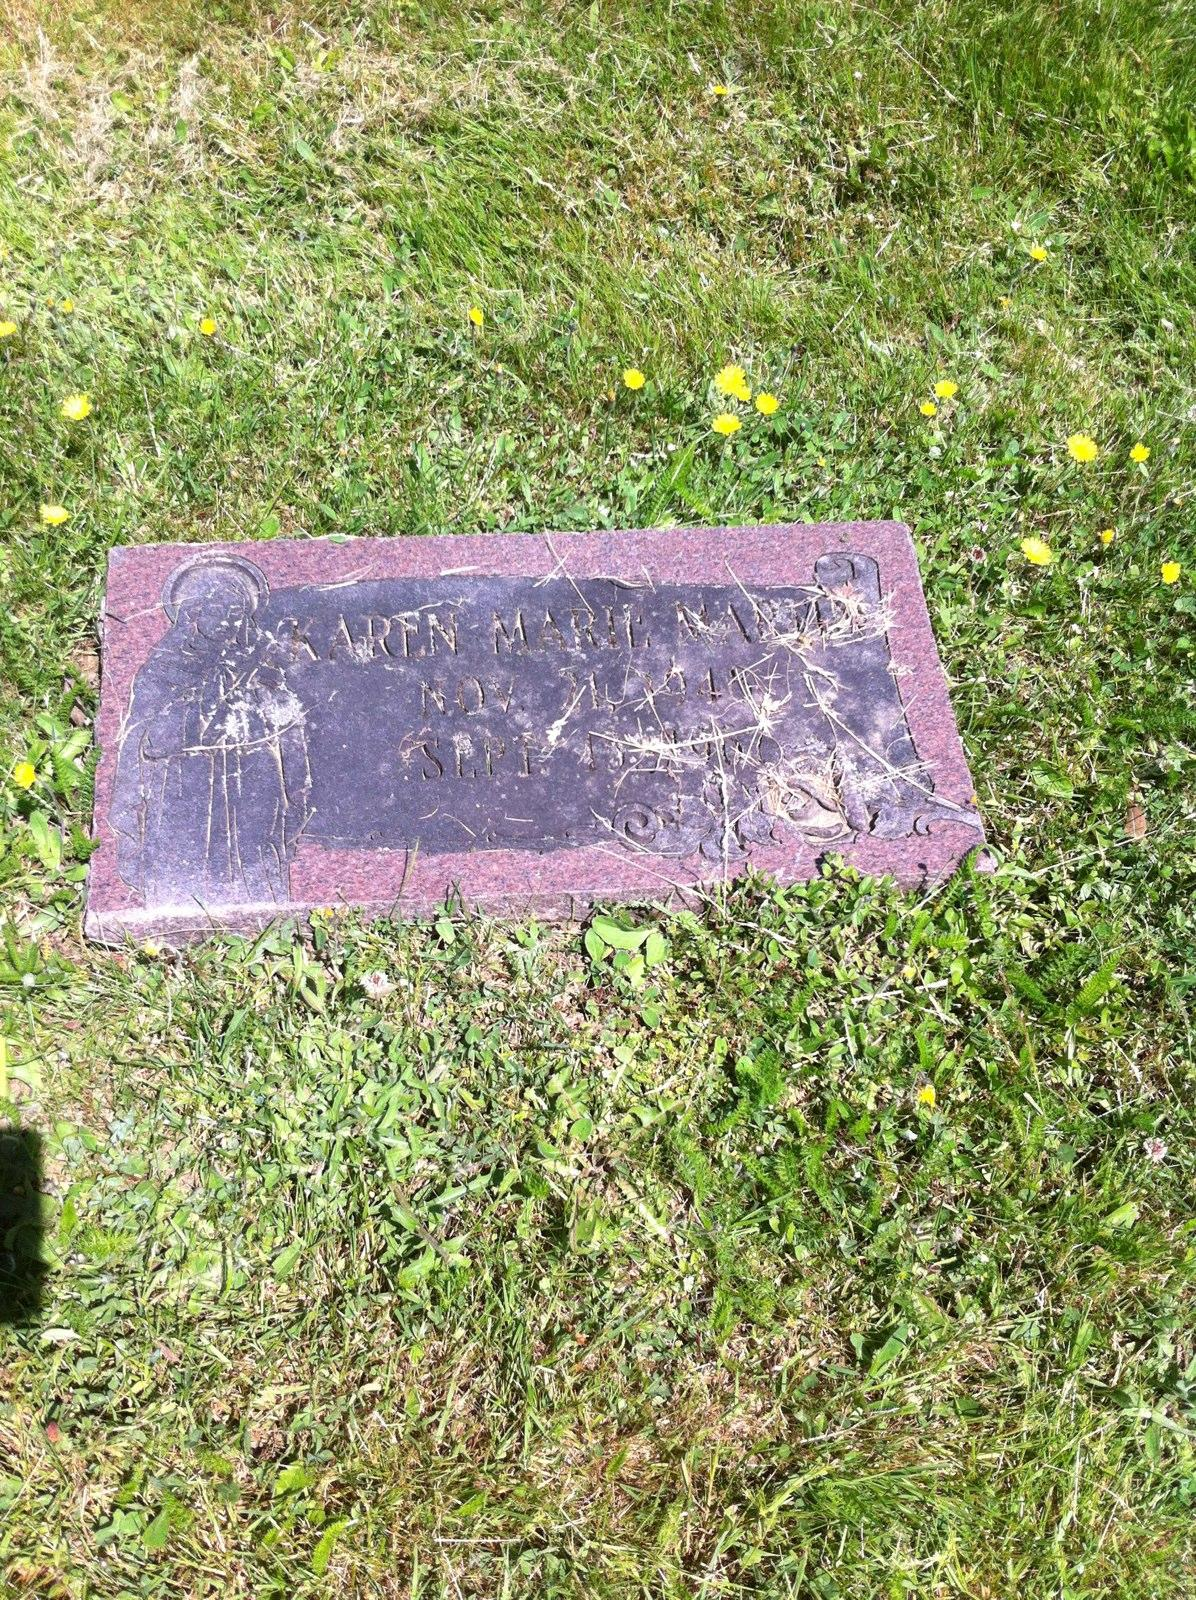flat: (70, 515, 1003, 959)
